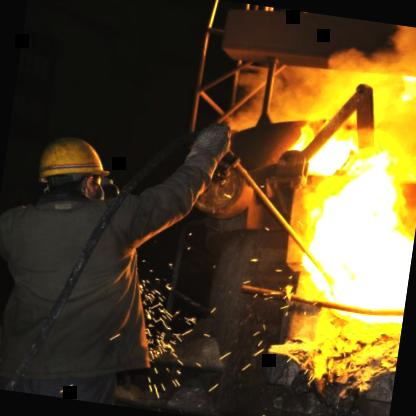helmet: (22, 122, 122, 214)
